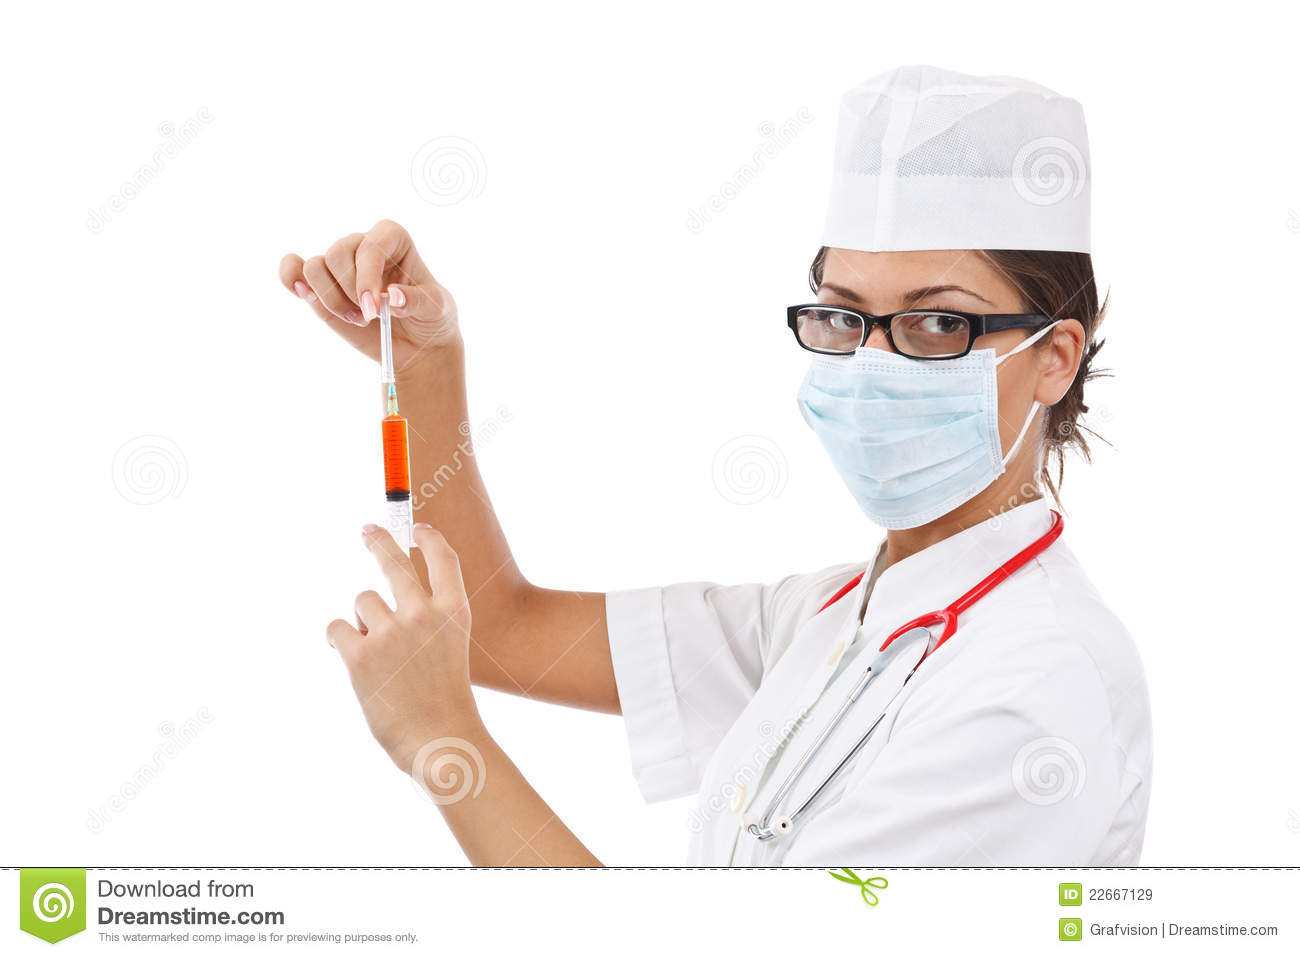mask: (802, 342, 1010, 529)
